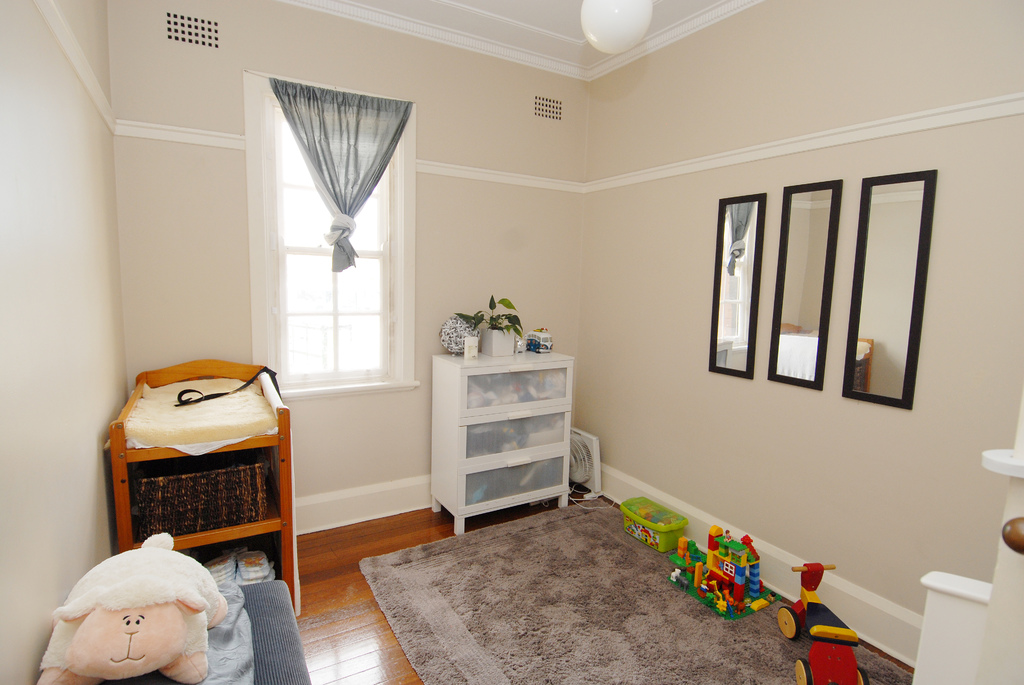cabinet door: (470, 461, 567, 496), (465, 418, 564, 448), (476, 371, 570, 402)
handle: (503, 455, 537, 473), (507, 359, 537, 377), (509, 408, 537, 427)
